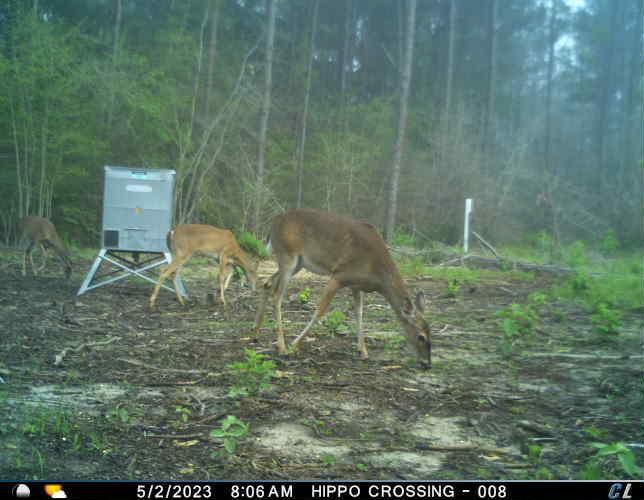Deer: (250, 205, 439, 374), (146, 221, 260, 312), (15, 214, 78, 284)
